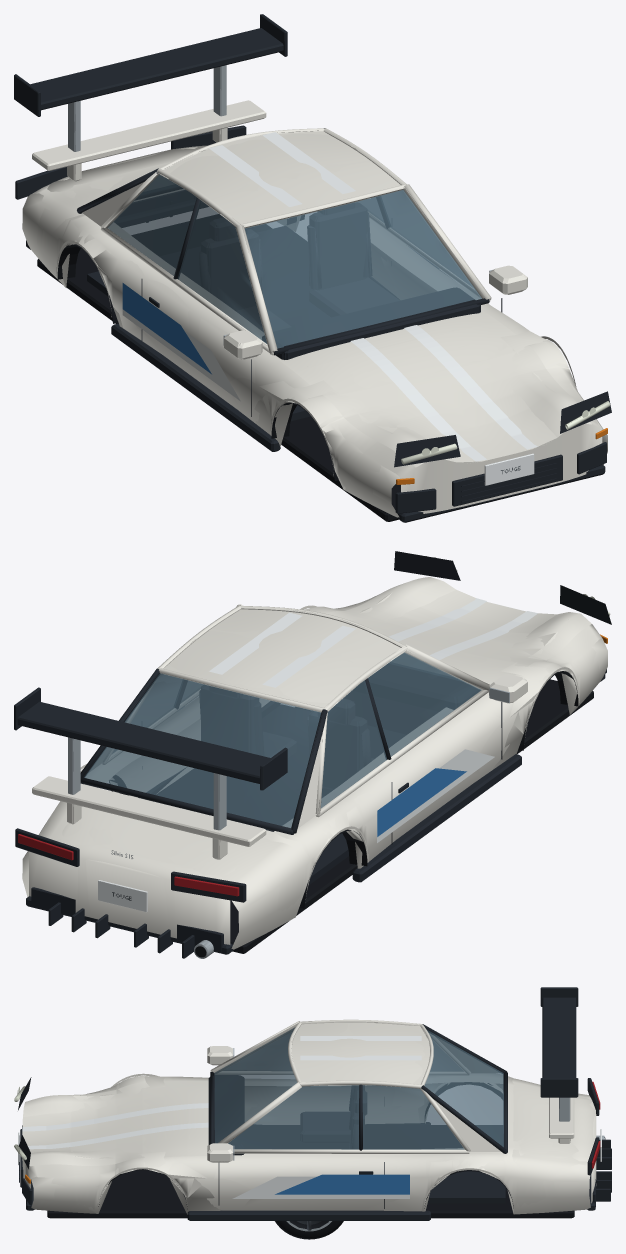
3 views of the same model, one above another, from view 1: azimuth 30°, elevation 25°; view 2: azimuth 150°, elevation 25°; view 3: azimuth 270°, elevation 25° (orthographic). The views are drawn at different scales.
Parts seen in each view (by area): view 1: LOD0_body, LOD0_cabin, LOD0_glass, LOD1_glass, LOD1_body, LOD0_hood, LOD1_hood, LOD1_cabin, LOD1_spoiler_gt, LOD0_spoiler_gt, LOD0_vinyl_twin, LOD0_vinyl_apex (+3 smaller); view 2: LOD0_body, LOD0_cabin, LOD0_glass, LOD1_glass, LOD1_body, LOD1_cabin, LOD0_hood, LOD1_spoiler_gt, LOD1_hood, LOD0_spoiler_gt, LOD0_vinyl_apex, LOD1_spoiler_stock (+3 smaller); view 3: LOD0_body, LOD0_cabin, LOD0_glass, LOD1_glass, LOD1_body, LOD0_hood, LOD1_cabin, LOD1_hood, LOD0_vinyl_apex, LOD1_spoiler_gt, LOD0_vinyl_twin, LOD0_spoiler_gt (+5 smaller).
Part boxes in pixels (x1,y1,x2,y2): LOD0_body: (15,125,611,522); LOD0_cabin: (77,128,491,420); LOD0_glass: (107,174,481,347); LOD1_glass: (107,175,481,348); LOD1_body: (15,126,608,522); LOD0_hood: (279,310,591,467); LOD1_hood: (308,323,568,462); LOD1_cabin: (78,128,489,420); LOD1_spoiler_gt: (14,28,286,151); LOD0_spoiler_gt: (14,14,287,151); LOD0_vinyl_twin: (209,132,524,448); LOD0_vinyl_apex: (122,252,447,401); LOD0_body: (15,551,611,958); LOD0_cabin: (80,604,489,885); LOD0_glass: (84,652,480,827); LOD1_glass: (84,653,481,827); LOD1_body: (15,557,609,958); LOD1_cabin: (81,605,483,884); LOD0_hood: (326,577,591,684); LOD1_spoiler_gt: (16,687,280,830); LOD1_hood: (350,590,556,680); LOD0_spoiler_gt: (14,688,287,830); LOD0_vinyl_apex: (193,696,494,842); LOD1_spoiler_stock: (32,776,265,859); LOD0_body: (14,1046,611,1220); LOD0_cabin: (208,1019,507,1203); LOD0_glass: (214,1027,503,1149); LOD1_glass: (214,1028,503,1149); LOD1_body: (14,1046,605,1220); LOD0_hood: (23,1081,208,1166); LOD1_cabin: (213,1021,505,1203); LOD1_hood: (22,1085,190,1158); LOD0_vinyl_apex: (232,1174,409,1198); LOD1_spoiler_gt: (540,997,575,1121); LOD0_vinyl_twin: (30,1036,421,1148); LOD0_spoiler_gt: (540,987,578,1121).
Size of the model in its own units: 1.96 by 1.73 by 4.63.
